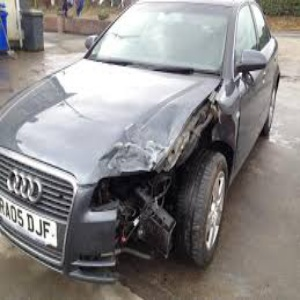bonnet: (81, 115, 201, 173)
bumper: (87, 174, 177, 287)
